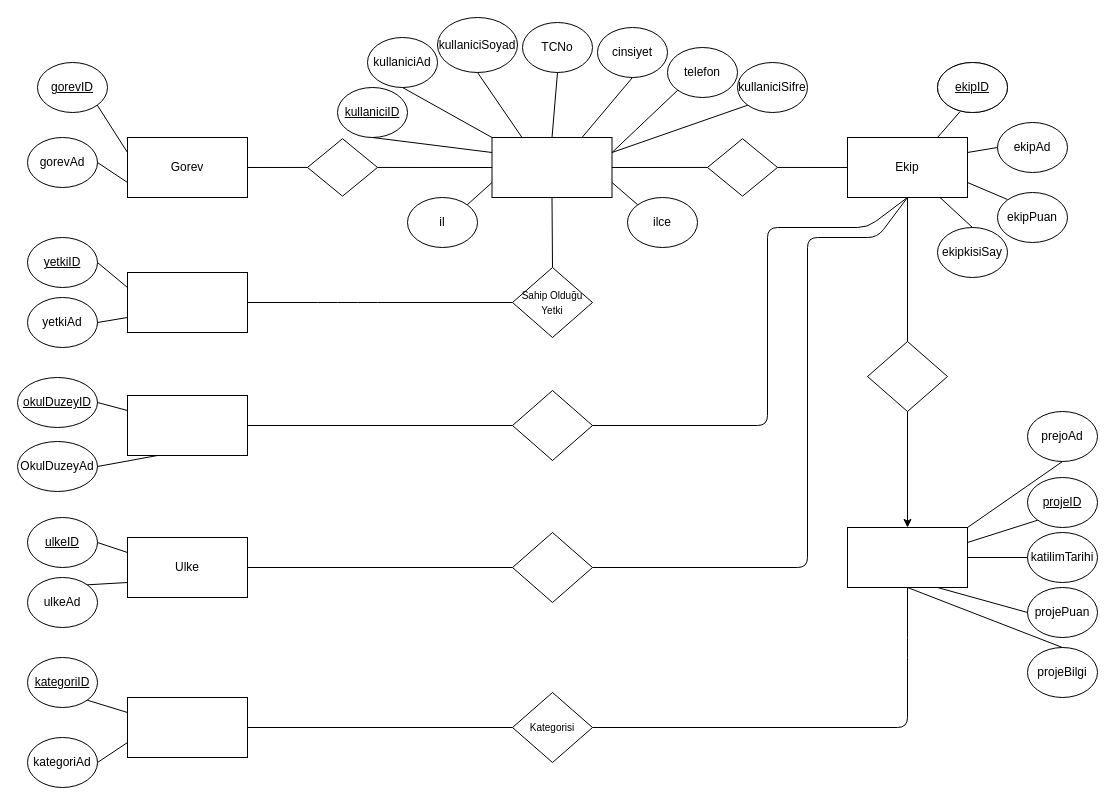
The diagram is 1115 pixels wide and 805 high, and some of its shapes have lost their labels. Here are the shapes that lost their labels. From the top down, the centre of each, then its label:
At point 342,167: "Aldığı Görev".
At point 551,167: "Kullanici".
At point 742,167: "Bulunduğu Ekip".
At point 187,302: "YetkiDuzey".
At point 907,376: "Geliştirdiği Proje".
At point 187,425: "OkulDuzey".
At point 552,425: "Ekibin Yarış Düzeyi".
At point 552,567: "Ekibin Temsil Ettiği".
At point 907,557: "Proje".
At point 187,727: "Kategori".
